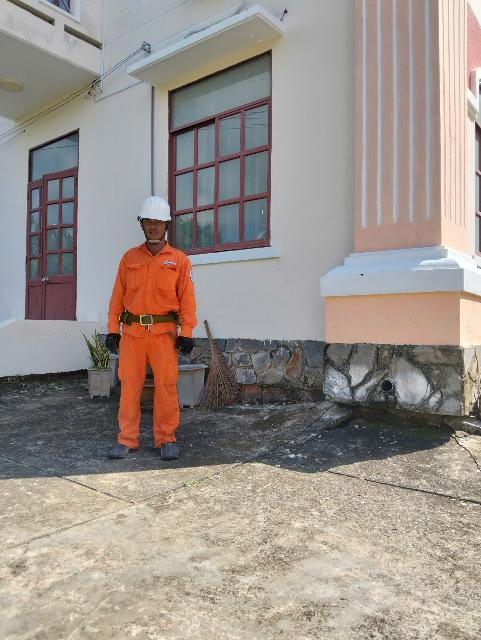gloves: (172, 335, 202, 367), (98, 324, 123, 361)
harness: (107, 304, 182, 327)
helmet: (115, 191, 189, 228)
shoes: (152, 433, 195, 468), (98, 436, 143, 466)
